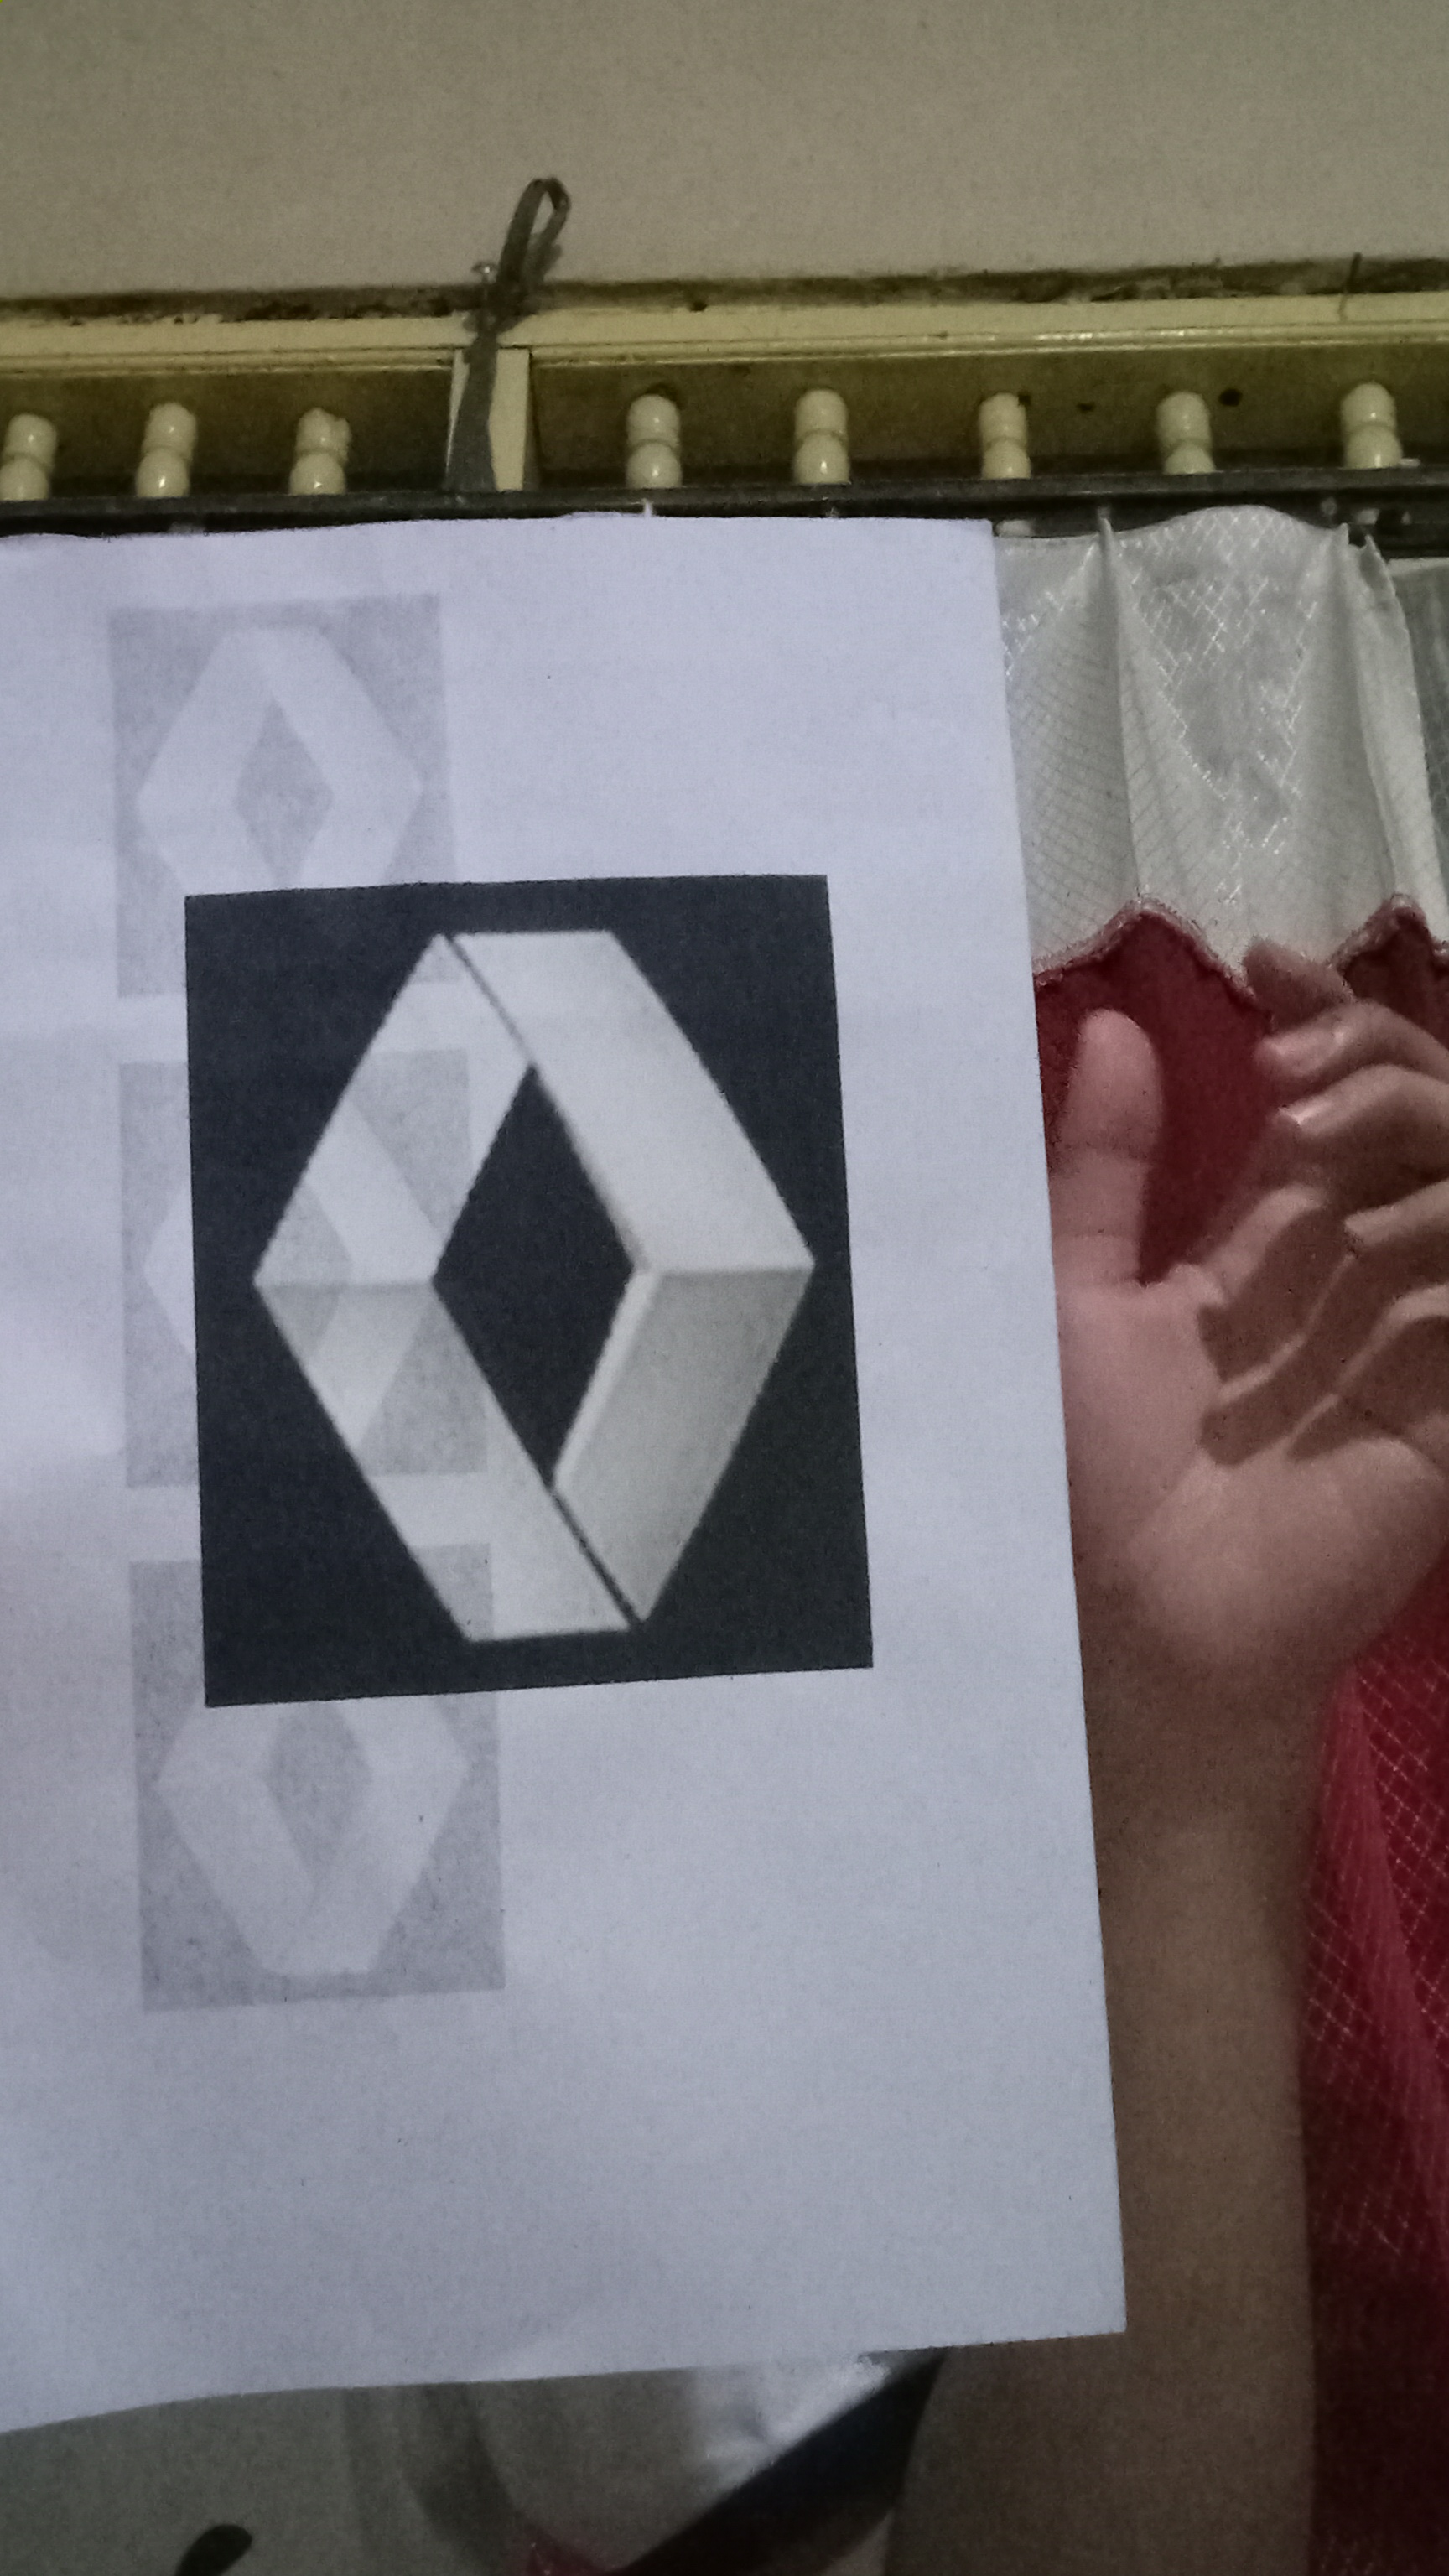Renault: (225, 909, 853, 1695)
